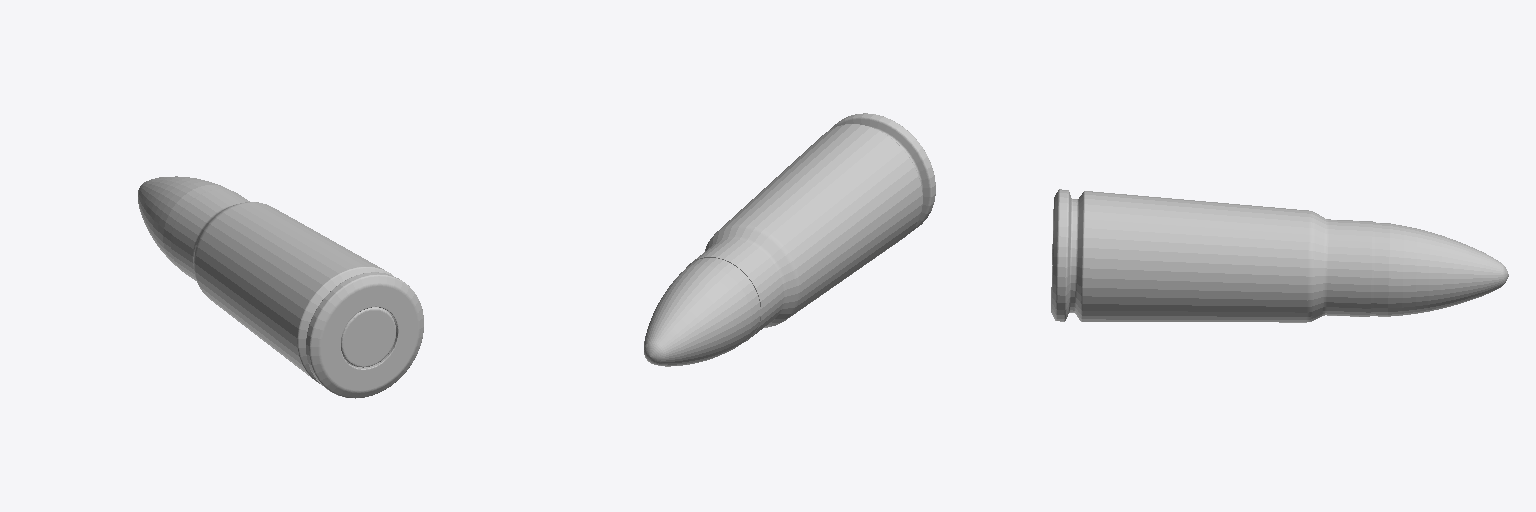
The model's file is bullet.obj.
The picture shows the model from 3 angles: view 1: azimuth 30°, elevation 25°; view 2: azimuth 150°, elevation 25°; view 3: azimuth 270°, elevation 25°; orthographic projection.
Parts seen in each view (by area): view 1: Line062, Line061; view 2: Line062, Line061; view 3: Line062, Line061.
Boxes of the visible parts, x1,y1,x2,y2 form: Line062: [171, 189, 423, 398]; Line061: [138, 176, 230, 267]; Line062: [686, 113, 935, 342]; Line061: [644, 258, 760, 366]; Line062: [1051, 189, 1372, 322]; Line061: [1370, 222, 1508, 316].
Size of the model in its own units: 0.3953 by 0.3991 by 1.37.